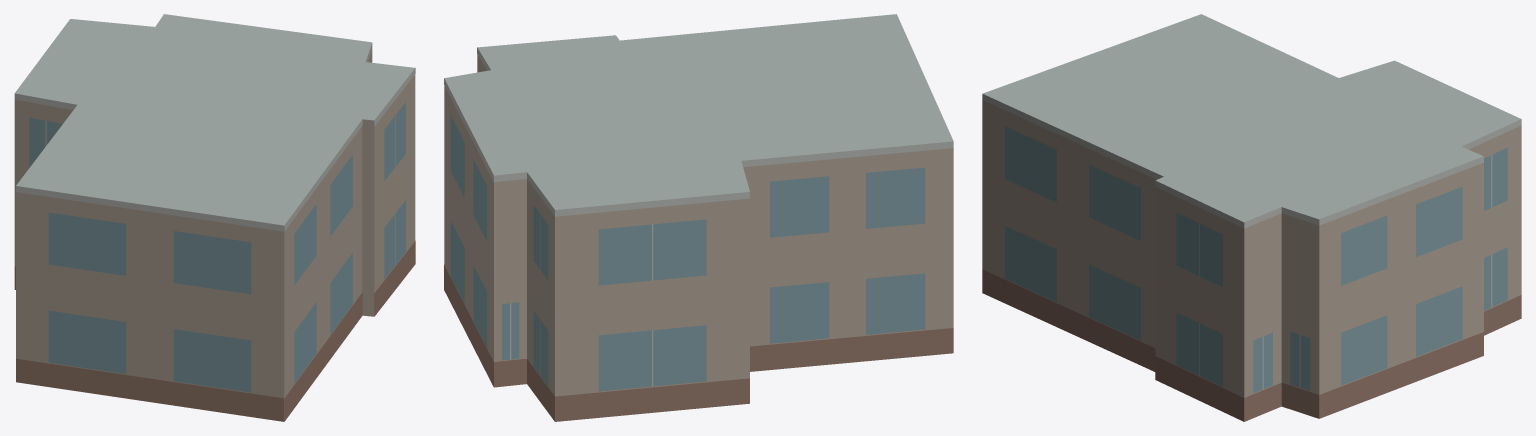
File: survey-upis-32624697.glb
3 renders of one model, left to right at view 1: azimuth 30°, elevation 25°; view 2: azimuth 150°, elevation 25°; view 3: azimuth 270°, elevation 25°, orthographic. The views are drawn at different scales.
Parts seen in each view (by area): view 1: survey-upis-32624697.tmp; view 2: survey-upis-32624697.tmp; view 3: survey-upis-32624697.tmp.
Part boxes in pixels (x1,y1,x2,y2): survey-upis-32624697.tmp: [14, 14, 415, 421]; survey-upis-32624697.tmp: [444, 14, 953, 421]; survey-upis-32624697.tmp: [982, 14, 1521, 421].
Bounding box in the file's own units: 17.5 × 7.8 × 19.12.
